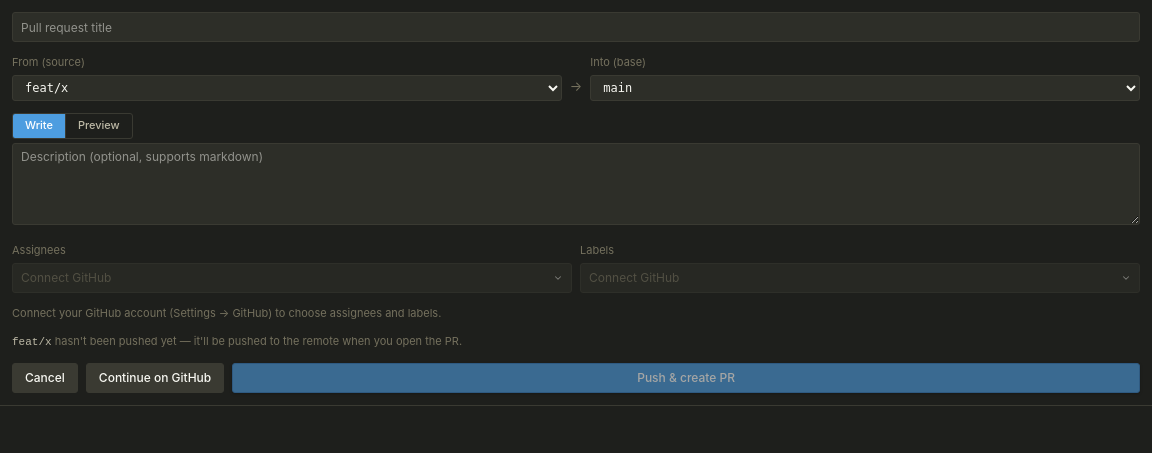
Test case: NewPRForm › does not create the PR if the pre-push fails
This screenshot has width=1152, height=453.
In the field with placeholder "Pull request title": (576, 27) [12,12,1140,42], type "My PR"
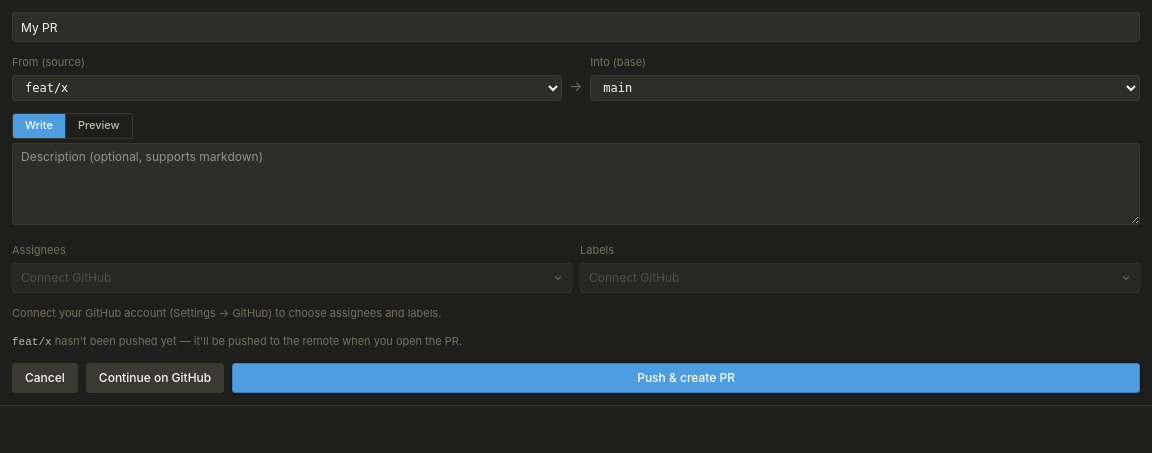
Click the button "Push & create PR": (686, 378) [232,362,1140,392]
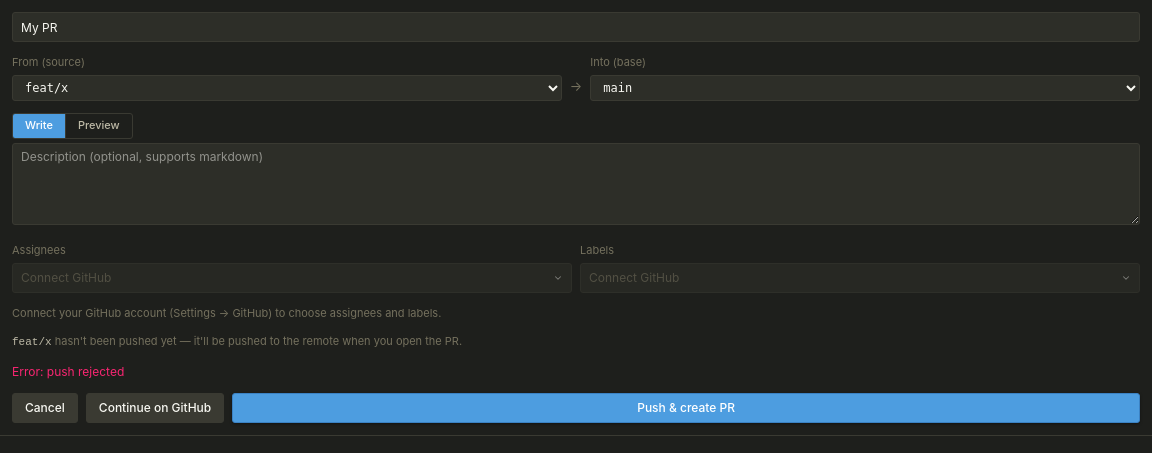
Expected: the text "Error: push rejected" is shown, [12,364,124,378]
